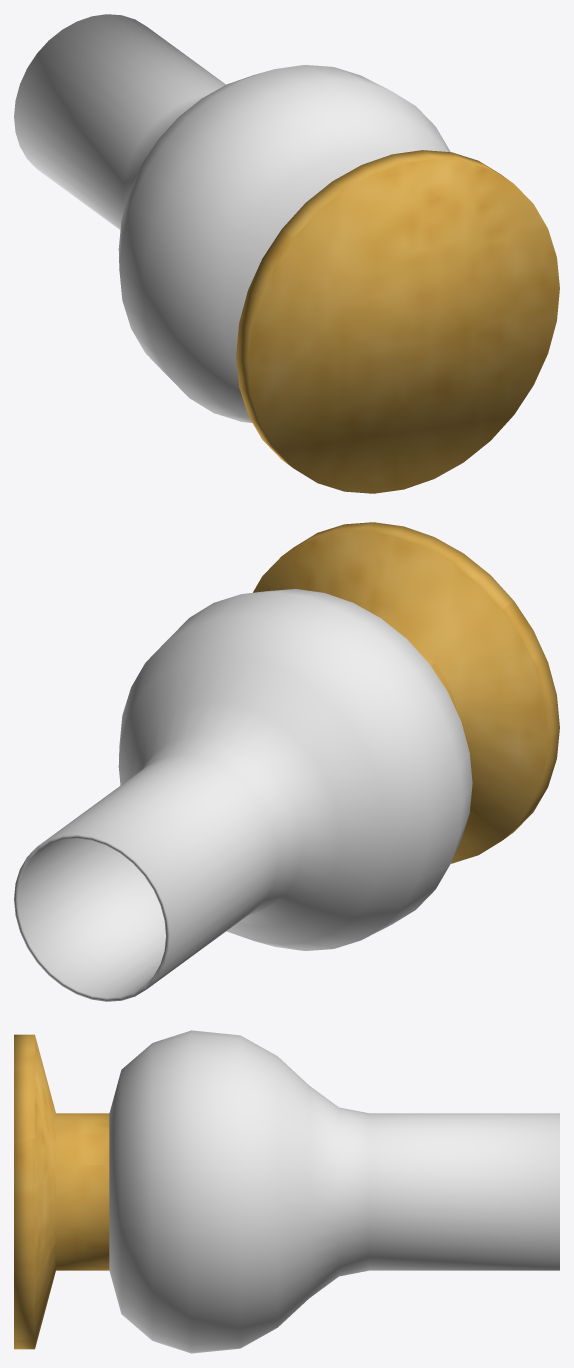
The model's file is LampOil.fbx.
3 views of the same model, one above another, from view 1: azimuth 30°, elevation 25°; view 2: azimuth 150°, elevation 25°; view 3: azimuth 270°, elevation 25° (orthographic). The views are drawn at different scales.
Visible parts, largest first — view 1: Circle; view 2: Circle; view 3: Circle.
Boxes of the visible parts, x1,y1,x2,y2 form: Circle: [14, 14, 559, 493]; Circle: [14, 522, 559, 1001]; Circle: [14, 1030, 559, 1353].
Bounding box in the file's own units: 0.154 × 0.154 × 0.26.
